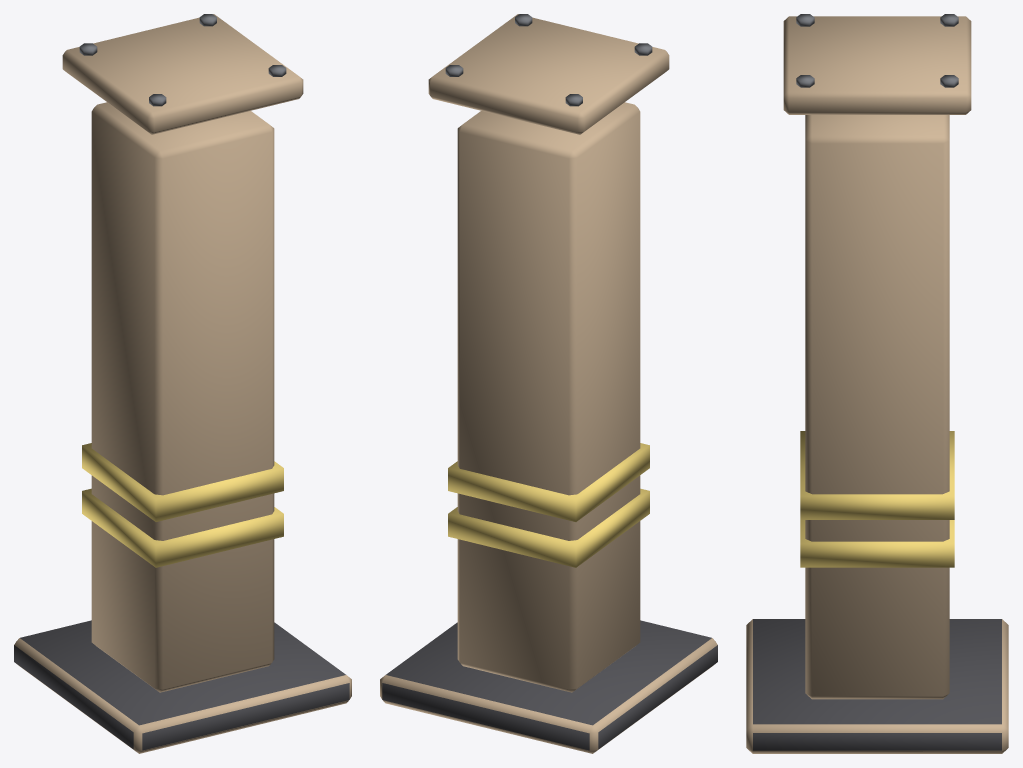
File: switch.glb
3 renders of one model, left to right at view 1: azimuth 30°, elevation 25°; view 2: azimuth 150°, elevation 25°; view 3: azimuth 270°, elevation 25°, orthographic. The views are drawn at different scales.
Visible parts, largest first — view 1: switch; view 2: switch; view 3: switch.
Boxes of the visible parts, bbox=[...] form: switch: bbox=[14, 14, 351, 753]; switch: bbox=[380, 14, 717, 753]; switch: bbox=[746, 14, 1008, 753].
Size of the model in its own units: 0.4 by 1.1 by 0.4.
